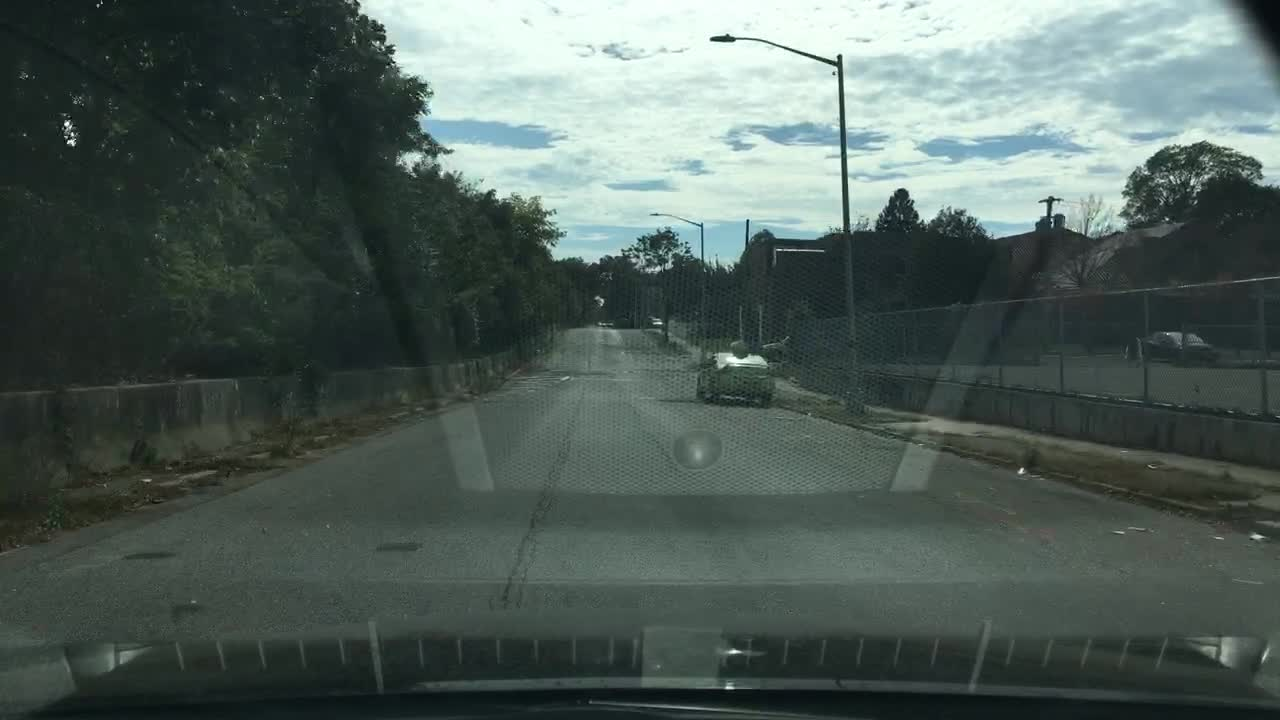car: (698, 340, 772, 406), (1137, 328, 1220, 364), (762, 336, 793, 359), (646, 315, 666, 326)
